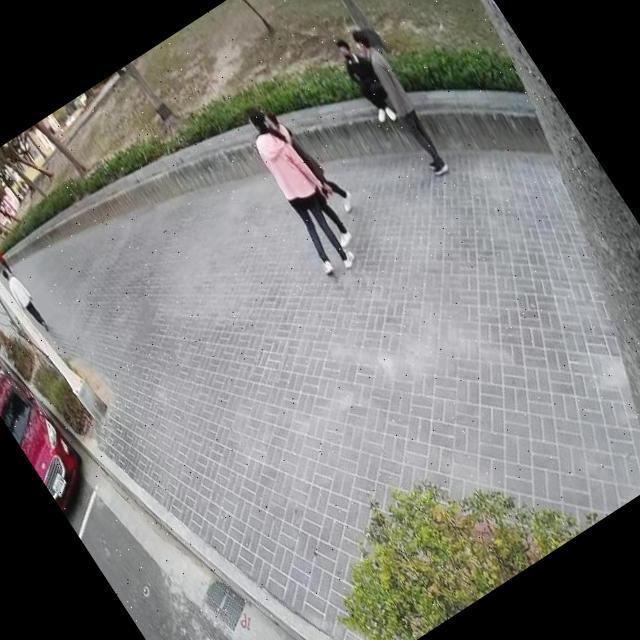person: (224, 88, 377, 283), (252, 88, 378, 251), (339, 19, 456, 180), (324, 26, 406, 131), (0, 261, 55, 338), (0, 239, 16, 276)
